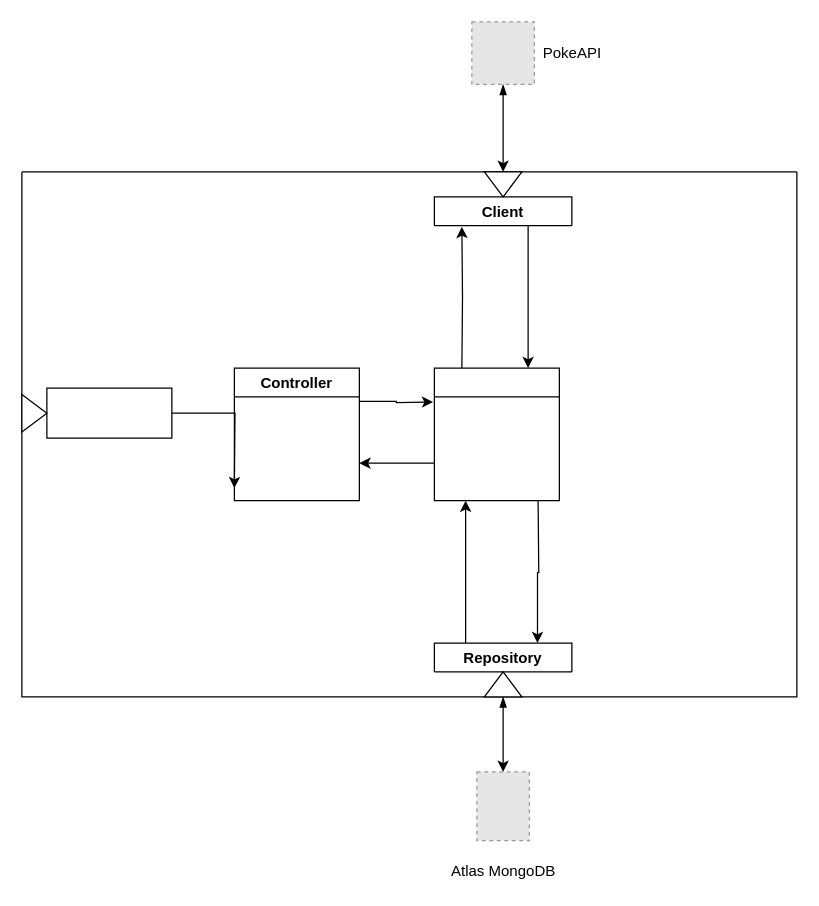
Some shapes in this 819 by 906 pixel diagram are drawn without their labels. Grey dashed boxes stand in for pictures. Here are the shapes that lost their labels. From the top down, the centre of each, then its label:
At point 109,412: "Token Validator".
At point 496,434: "Service".
